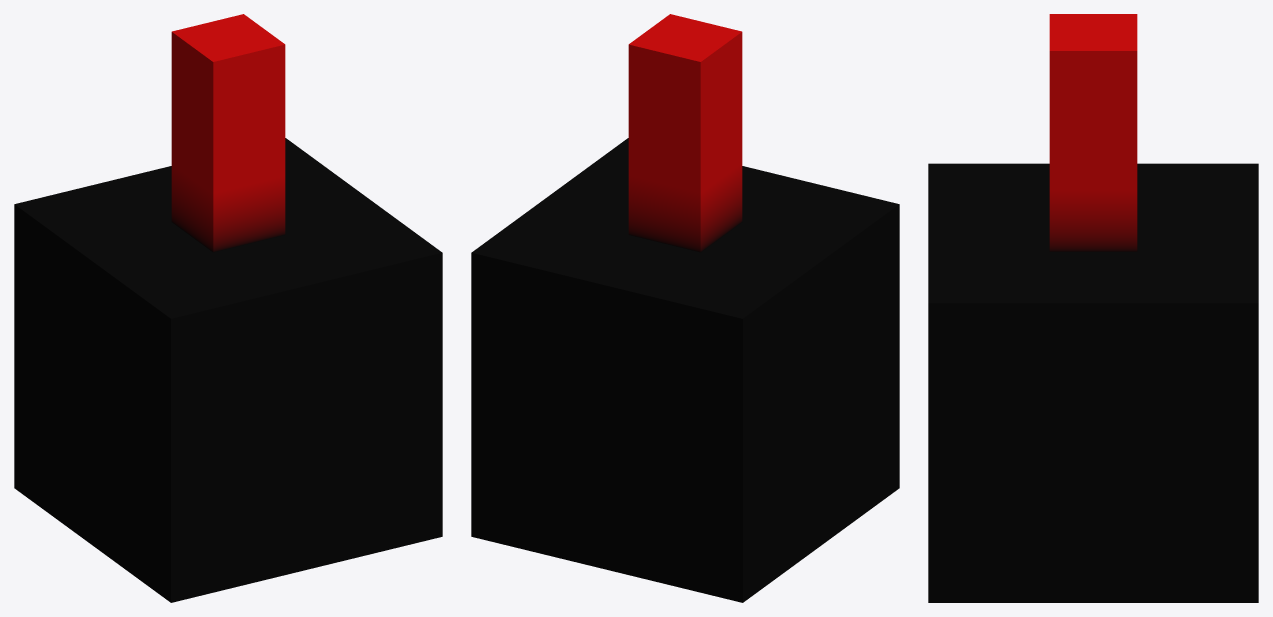
File: Stick.fbx
3 renders of one model, left to right at view 1: azimuth 30°, elevation 25°; view 2: azimuth 150°, elevation 25°; view 3: azimuth 270°, elevation 25°, orthographic. The views are drawn at different scales.
Parts seen in each view (by area): view 1: Cube; view 2: Cube; view 3: Cube.
Boxes of the visible parts, x1,y1,x2,y2 form: Cube: [14, 14, 442, 602]; Cube: [471, 14, 899, 602]; Cube: [928, 14, 1258, 602].
Size of the model in its own units: 100 by 167 by 100.
